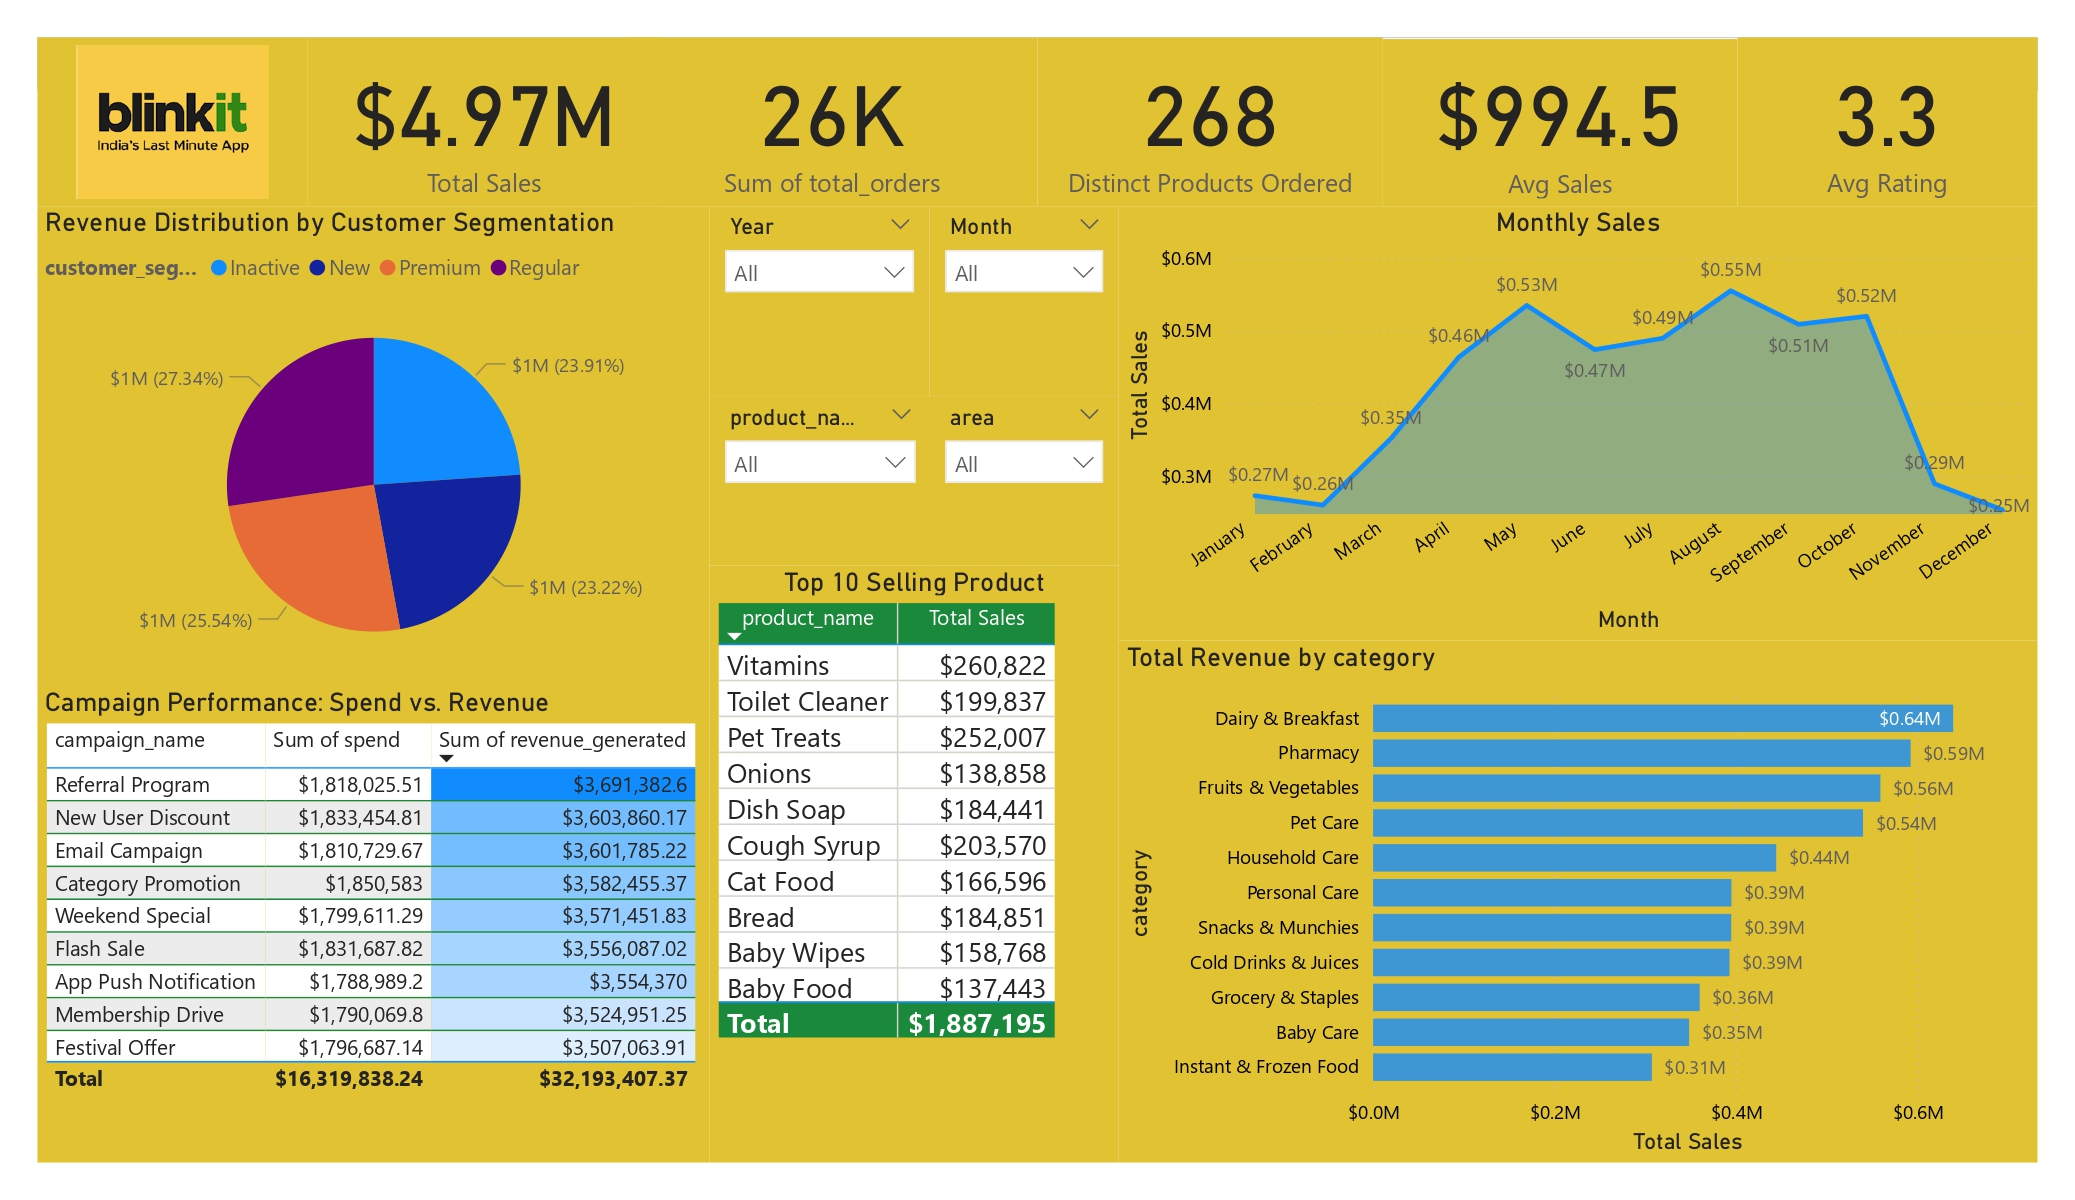

The dashboard page shown, as its layout file describes it:
{"tool":"powerbi","page":{"name":"DASHBOARD","canvas":[1280,720],"ordinal":0},"visuals":[{"type":"image","box":[0,0,172.8,108],"z":0},{"type":"barChart","title":"Total Revenue by category","fields":{"Category":["blinkit_products.category"],"Y":["Measure_Table.Total Sales"]},"box":[692.1,386.4,588.2,333.8],"z":1000},{"type":"card","fields":{"Values":["Measure_Table.Total Sales"]},"box":[172.9,0,226.4,107.9],"z":2000},{"type":"areaChart","title":" Monthly Sales","fields":{"Category":["blinkit_delivery_performance.delivery_Date.Variation.Date Hierarchy.Month"],"Y":["Measure_Table.Total Sales"]},"box":[692.1,107.6,588.2,278.8],"z":3000},{"type":"card","fields":{"Values":["Sum(blinkit_customers.total_orders)"]},"box":[376.9,0,262.9,107.9],"z":4000},{"type":"pieChart","title":"Revenue Distribution by Customer Segmentation","fields":{"Series":["blinkit_customers.customer_segment"],"Y":["Measure_Table.Total Sales"]},"box":[0,107.6,430.4,306.9],"z":5000},{"type":"card","fields":{"Values":["Measure_Table.Avg Rating"]},"box":[1087.9,0,192.1,107.9],"z":6000},{"type":"tableEx","title":"Top 10 Selling Product","fields":{"Values":["blinkit_products.product_name","Measure_Table.Total Sales"]},"box":[430.4,337.5,261.7,382.7],"z":7000},{"type":"card","fields":{"Values":["Measure_Table.Distinct Products Ordered"]},"box":[639.5,0,221.3,107.6],"z":8000},{"type":"slicer","fields":{"Values":["blinkit_customers.registration_date.Variation.Date Hierarchy.Year"]},"box":[430.4,107.6,140.6,122.3],"z":9000},{"type":"slicer","fields":{"Values":["blinkit_customers.registration_date.Variation.Date Hierarchy.Month"]},"box":[571.1,107.6,121.1,122.3],"z":10000},{"type":"slicer","fields":{"Values":["blinkit_customers.area"]},"box":[571.1,230,121.1,107.8],"z":11000},{"type":"slicer","fields":{"Values":["blinkit_products.product_name"]},"box":[430,230,141.7,108.3],"z":12000},{"type":"card","fields":{"Values":["Measure_Table.Avg Sales"]},"box":[861.2,1.4,227.1,106.6],"z":13000},{"type":"tableEx","title":"Campaign Performance: Spend vs. Revenue","fields":{"Values":["blinkit_marketing_performance.campaign_name","Sum(blinkit_marketing_performance.spend)","Sum(blinkit_marketing_performance.revenue_generated)"]},"box":[0,414.5,430.4,305.7],"z":14000}]}

Visuals, with their boxes in screenshot pixels (x1, y1, x2, y2):
image: (left=38, top=38, right=308, bottom=206)
"Total Revenue by category" barChart: (left=1119, top=641, right=2038, bottom=1162)
card - Measure_Table.Total Sales: (left=308, top=38, right=661, bottom=206)
" Monthly Sales" areaChart: (left=1119, top=206, right=2038, bottom=641)
card - Sum(blinkit_customers.total_orders): (left=626, top=38, right=1037, bottom=206)
"Revenue Distribution by Customer Segmentation" pieChart: (left=38, top=206, right=710, bottom=685)
card - Measure_Table.Avg Rating: (left=1737, top=38, right=2038, bottom=206)
"Top 10 Selling Product" tableEx: (left=710, top=565, right=1119, bottom=1162)
card - Measure_Table.Distinct Products Ordered: (left=1037, top=38, right=1382, bottom=206)
slicer - blinkit_customers.registration_date.Variation.Date Hierarchy.Year: (left=710, top=206, right=930, bottom=397)
slicer - blinkit_customers.registration_date.Variation.Date Hierarchy.Month: (left=930, top=206, right=1119, bottom=397)
slicer - blinkit_customers.area: (left=930, top=397, right=1119, bottom=565)
slicer - blinkit_products.product_name: (left=709, top=397, right=931, bottom=566)
card - Measure_Table.Avg Sales: (left=1383, top=40, right=1738, bottom=206)
"Campaign Performance: Spend vs. Revenue" tableEx: (left=38, top=685, right=710, bottom=1162)
